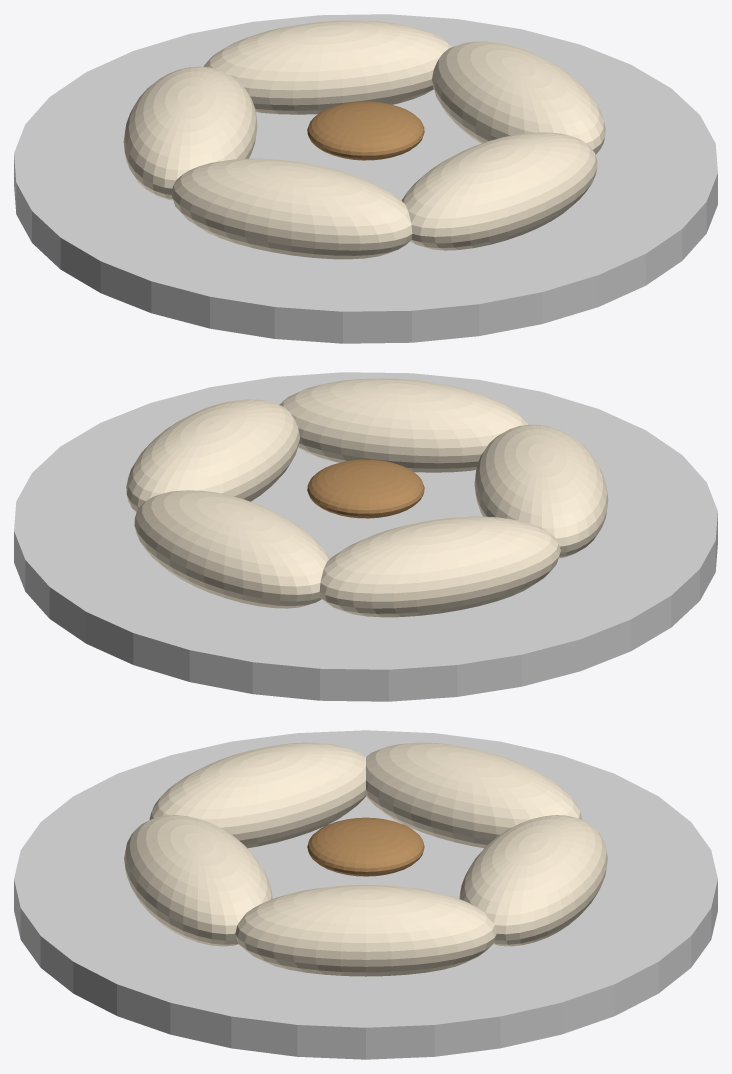
File: talerz_pierogi.fbx
3 renders of one model, top to bottom at view 1: azimuth 30°, elevation 25°; view 2: azimuth 150°, elevation 25°; view 3: azimuth 270°, elevation 25°, orthographic.
Visible parts, largest first — view 1: TalerzPierogow; view 2: TalerzPierogow; view 3: TalerzPierogow.
Boxes of the visible parts, box(x1,y1,x2,y2) form: TalerzPierogow: box(14, 14, 717, 343); TalerzPierogow: box(14, 372, 717, 701); TalerzPierogow: box(14, 730, 717, 1059).
Size of the model in its own units: 3 by 0.43 by 3.
